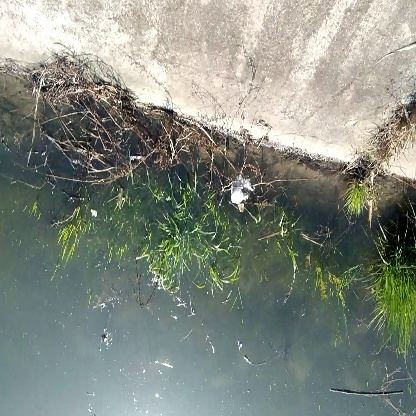branch: (328, 378, 412, 412)
